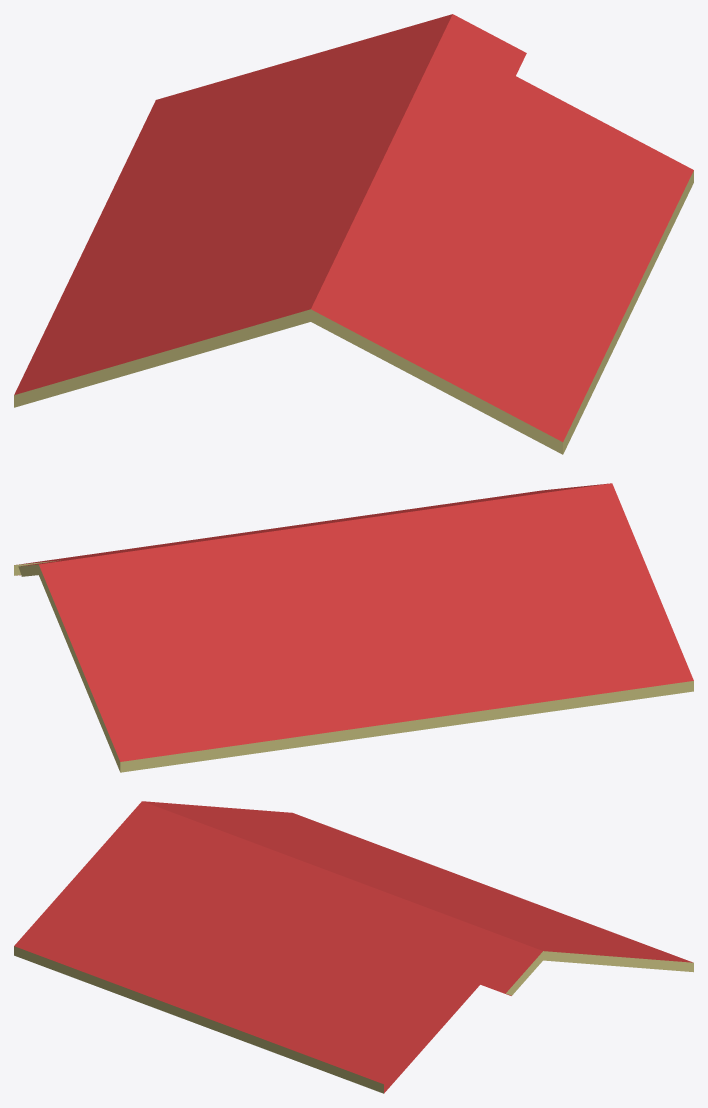
The picture shows the model from 3 angles, top to bottom: view 1: azimuth 30°, elevation 25°; view 2: azimuth 150°, elevation 25°; view 3: azimuth 270°, elevation 25°; orthographic projection. The views are drawn at different scales.
Bounding box in the file's own units: 6.16 × 6.51 × 0.985.
